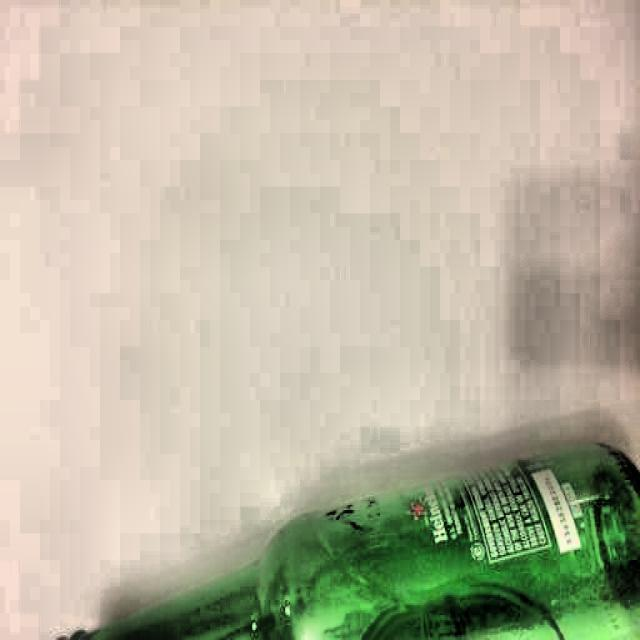glass: (5, 442, 640, 640)
